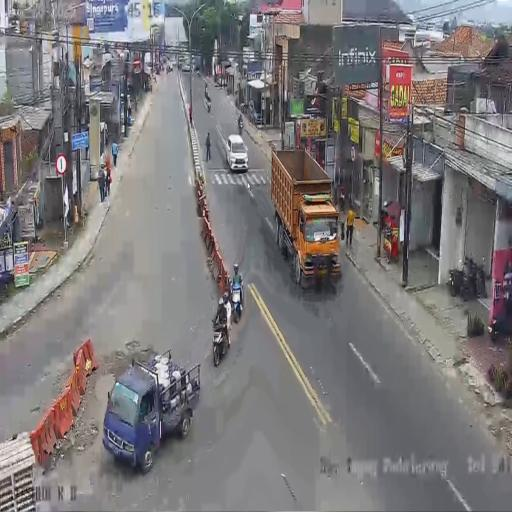car: (225, 134, 248, 172), (182, 62, 191, 72), (214, 74, 220, 85)
motorcycle: (489, 289, 512, 342), (212, 314, 230, 366), (230, 280, 244, 324), (237, 114, 243, 132), (240, 101, 246, 114), (152, 72, 157, 84), (155, 63, 160, 75), (149, 80, 152, 94), (196, 66, 200, 76)
truck: (102, 350, 199, 473), (269, 146, 338, 291)
